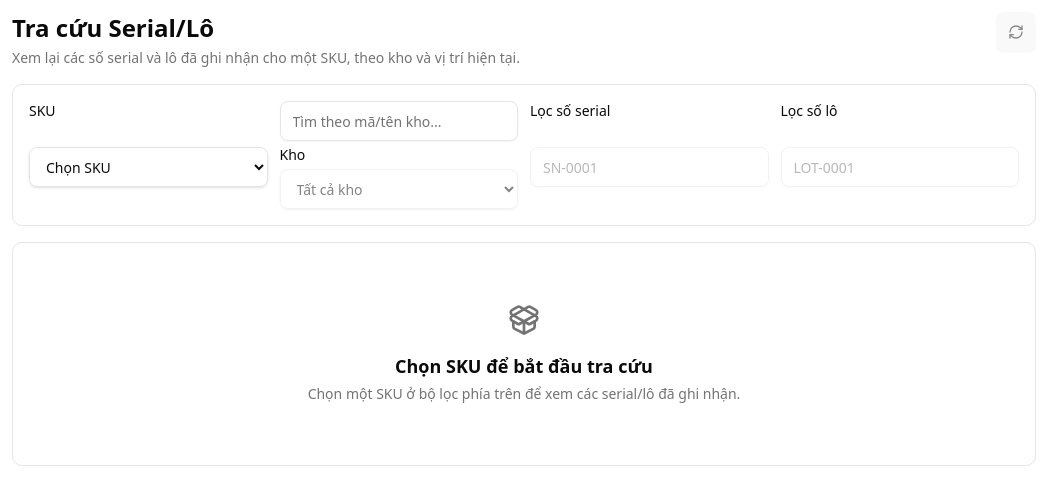
Test: InventoryLookupPage › shows an empty state when the selected SKU has no matching serial/lot rows
Select "SKU-A - Cuộn cáp mạng" in the dropdown labelled "SKU": (148, 167) [29,147,268,187]
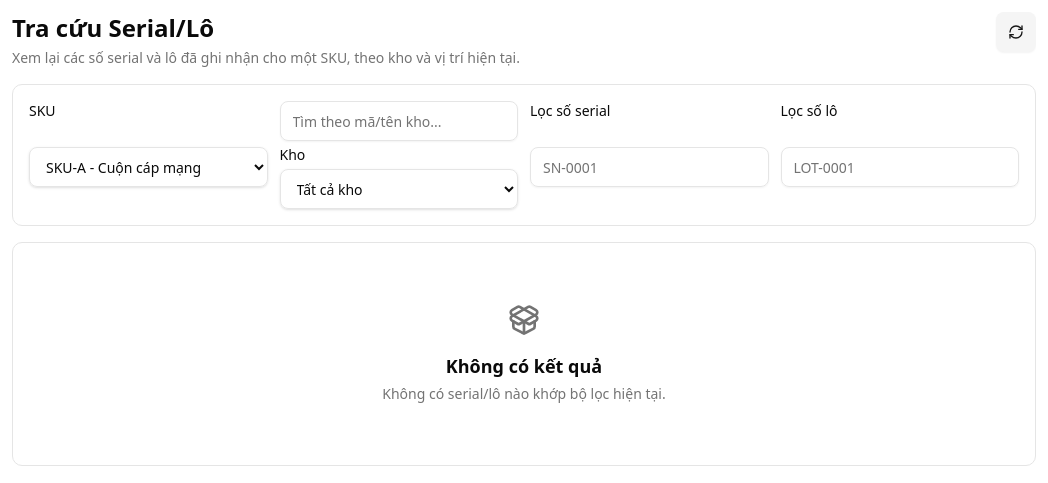
Result: the heading "Không có kết quả" is shown at [446,354,602,378]
Result: the text "Không có serial/lô nào khớp bộ lọc hiện tại." is shown at [382,384,666,404]
